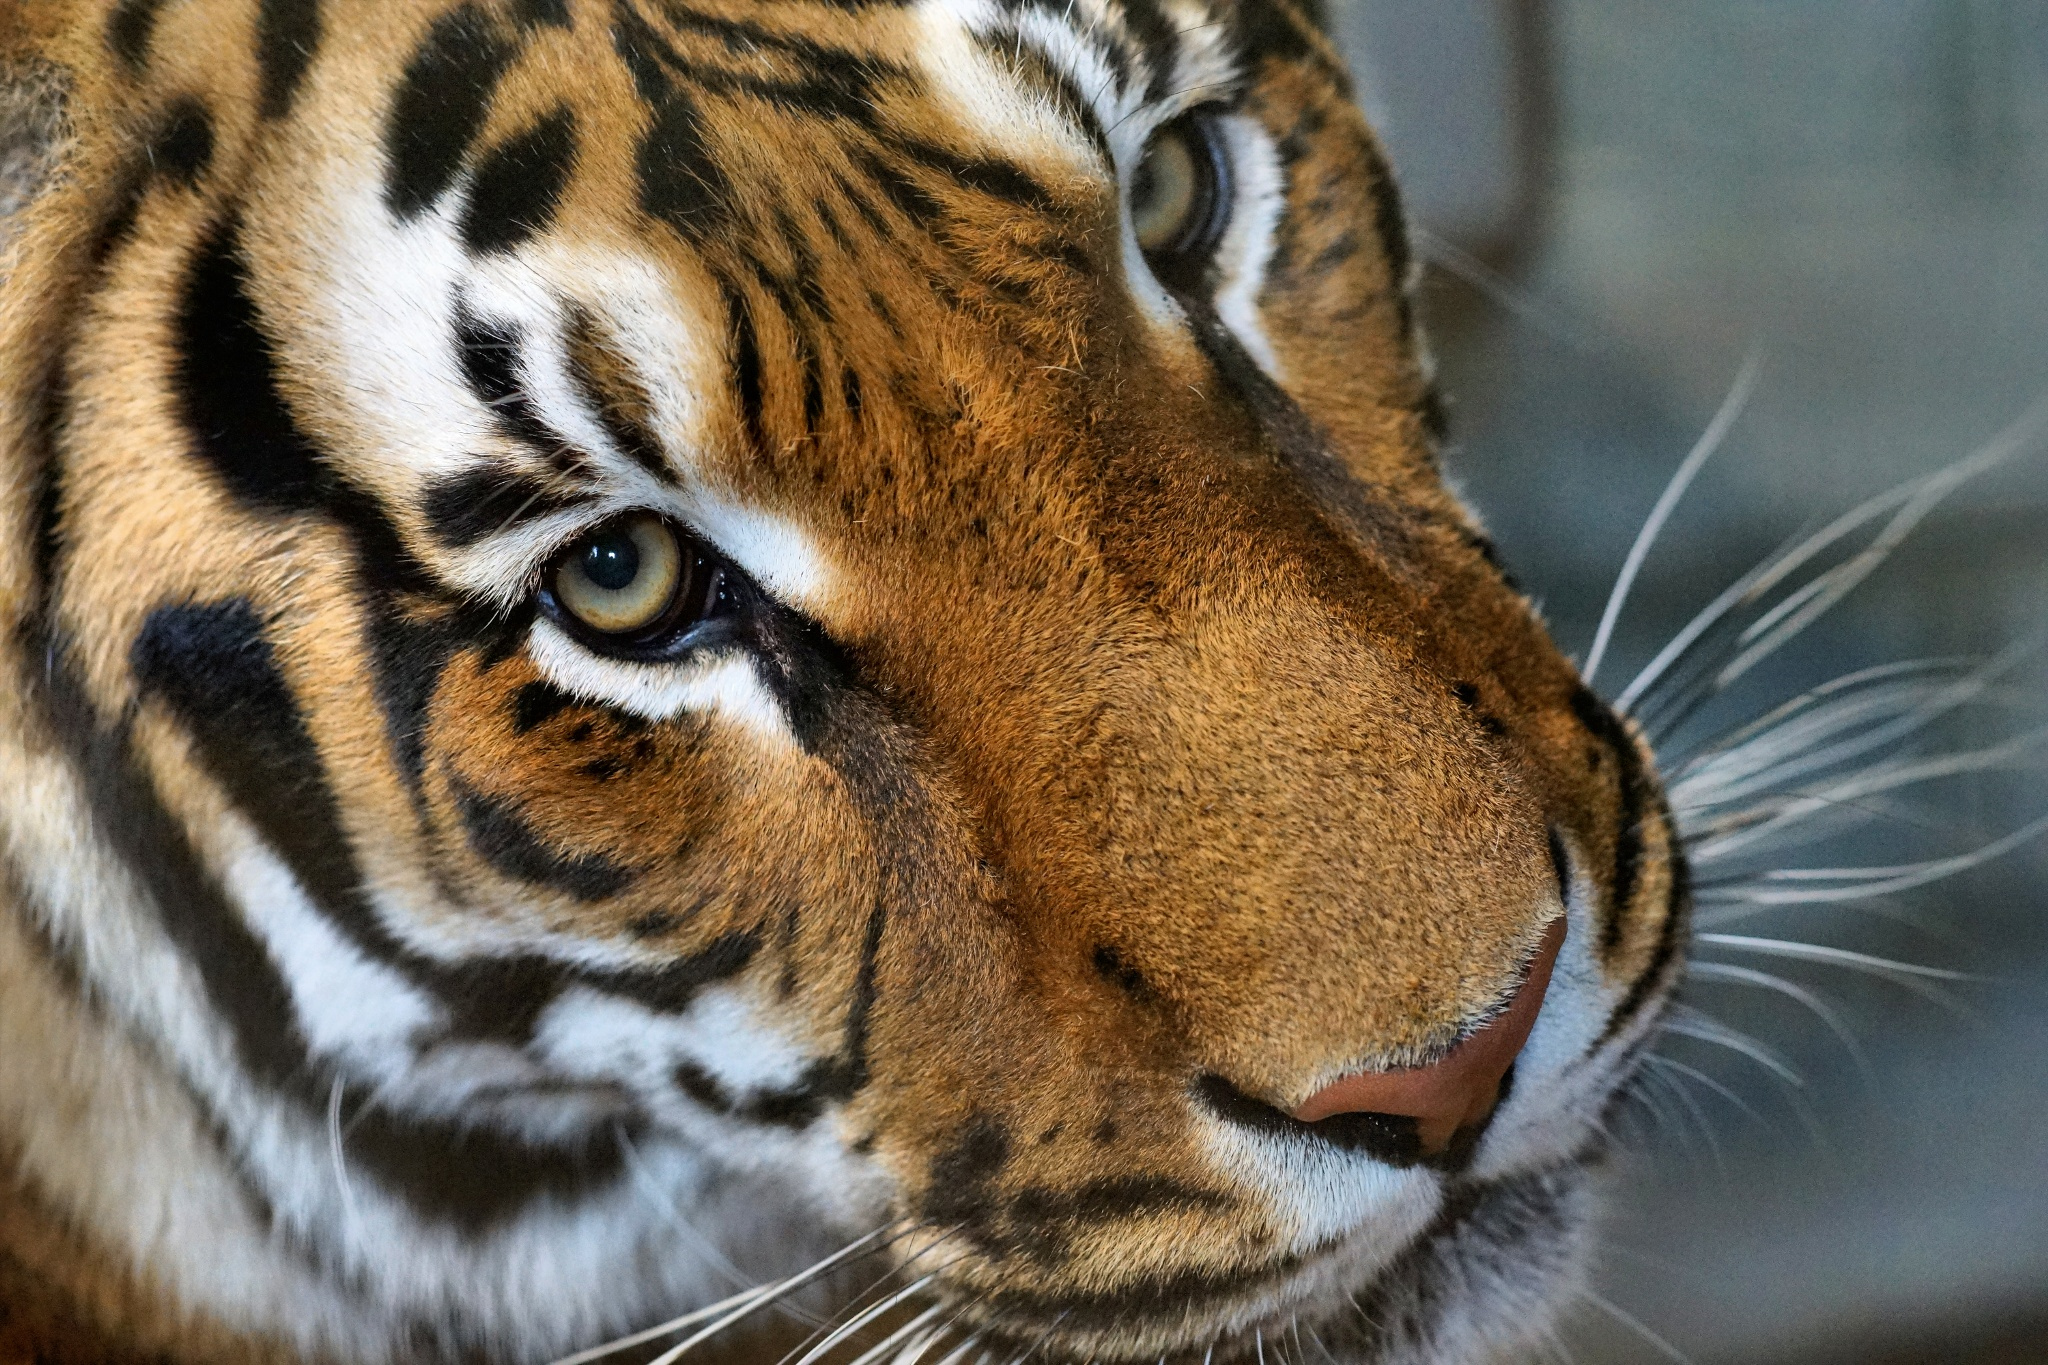tiger: (32, 24, 1750, 1319)
